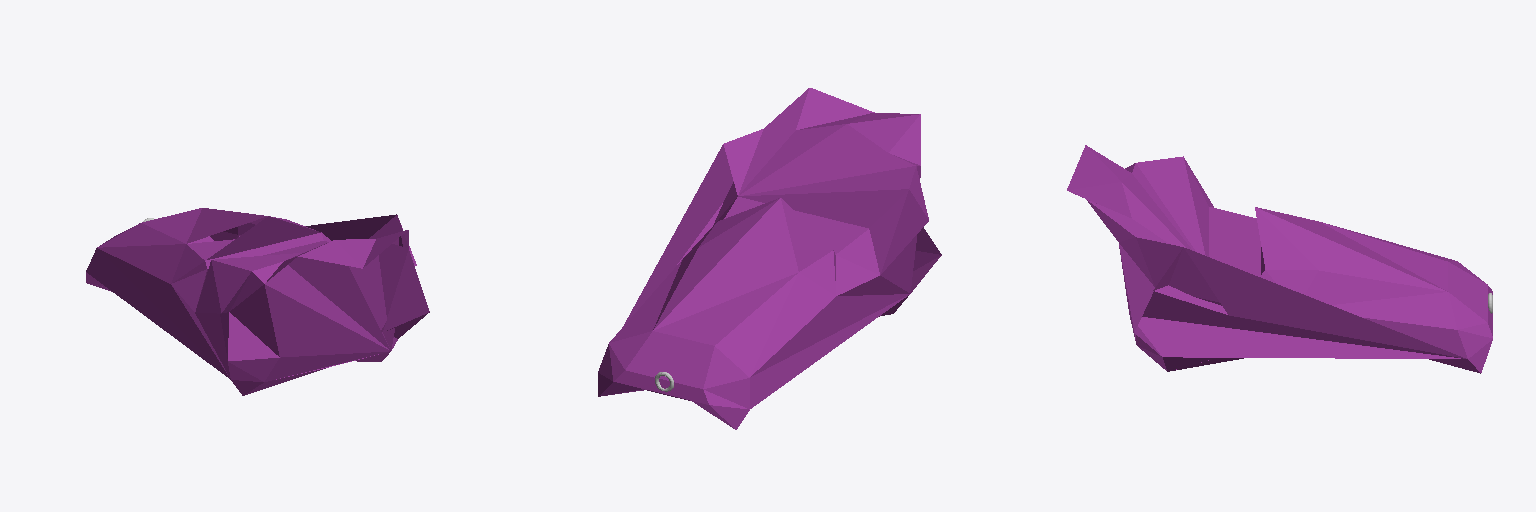
3 views of the same model, side by side, from view 1: azimuth 30°, elevation 25°; view 2: azimuth 150°, elevation 25°; view 3: azimuth 270°, elevation 25° (orthographic).
Parts seen in each view (by area): view 1: Cube.001; view 2: Cube.001; view 3: Cube.001.
Part boxes in pixels (x1,y1,x2,y2): Cube.001: (86, 208, 429, 395); Cube.001: (598, 88, 941, 429); Cube.001: (1067, 145, 1492, 373).
Size of the model in its own units: 3.98 by 3.16 by 7.26.
2 materials, 1 textured.